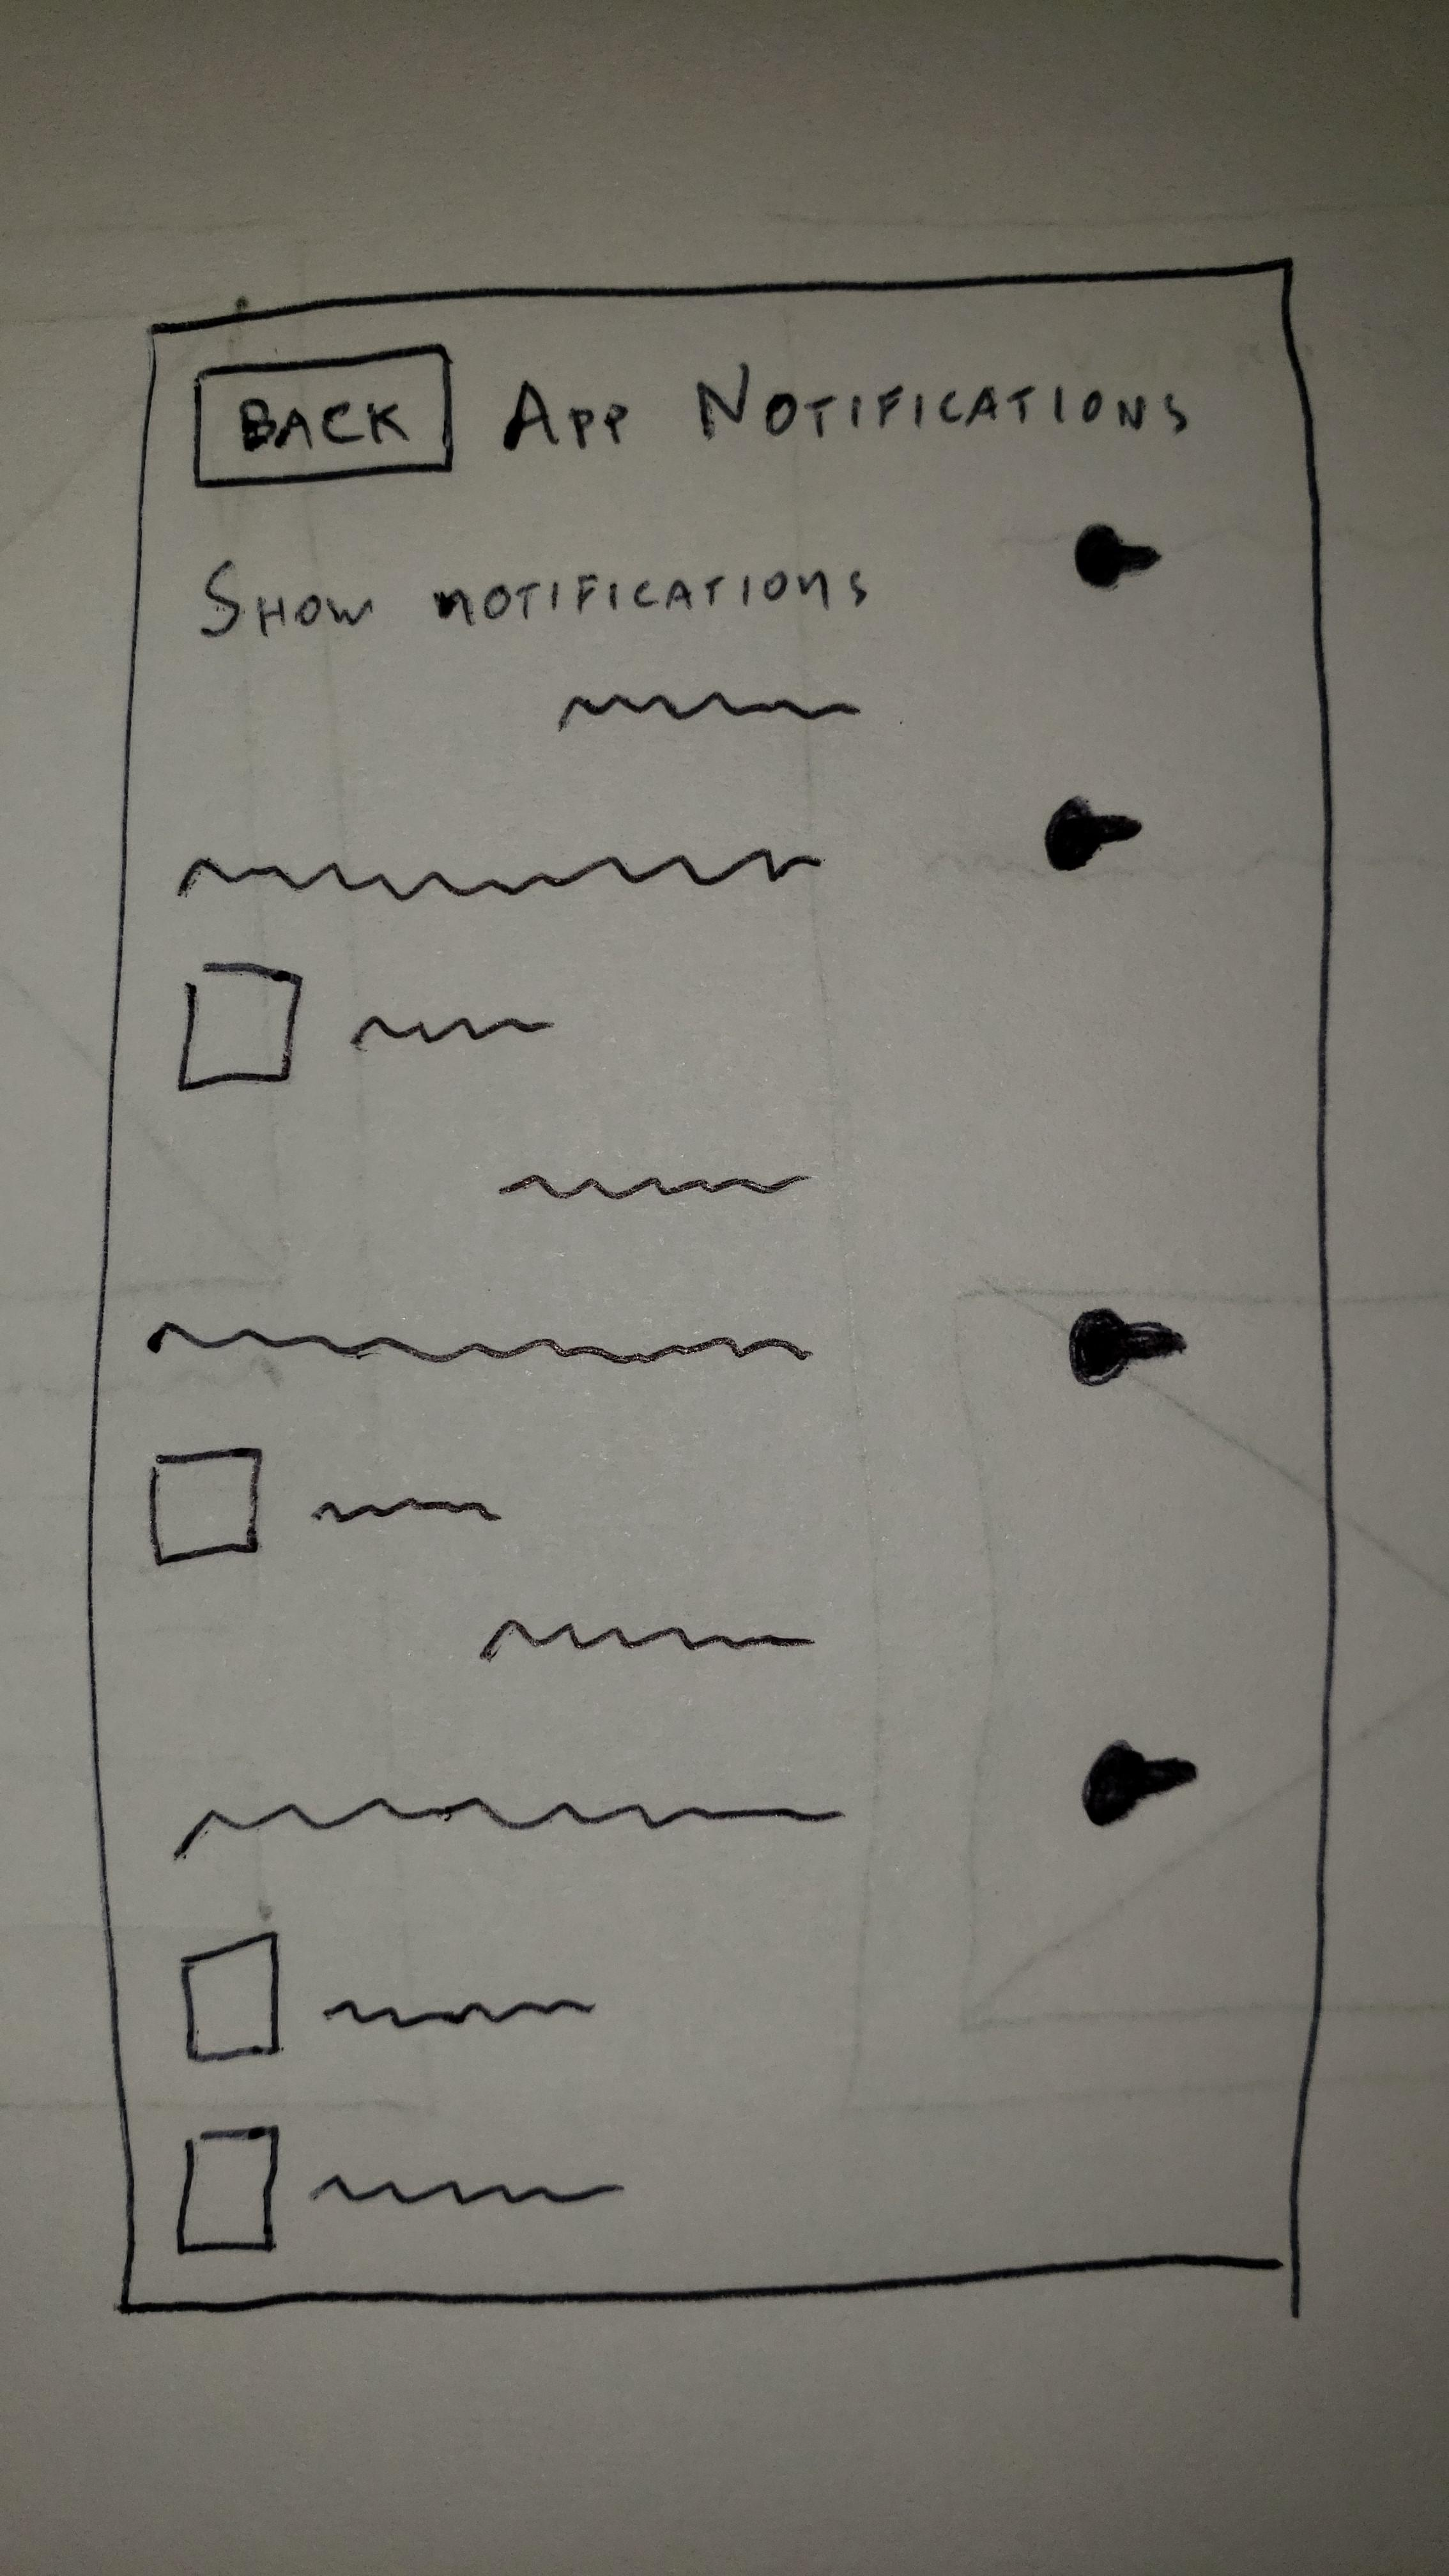Button: (191, 345, 455, 487)
CheckBox: (173, 2121, 626, 2252), (177, 1934, 596, 2063), (175, 957, 556, 1093), (149, 1447, 501, 1569)
Label: (497, 363, 1191, 464), (479, 1619, 816, 1656), (557, 690, 862, 731), (495, 1166, 810, 1203)
Screen: (85, 257, 1339, 2314)
Switch: (172, 1739, 1200, 1863), (195, 520, 1161, 644), (175, 796, 1141, 902), (145, 1304, 1192, 1389)
